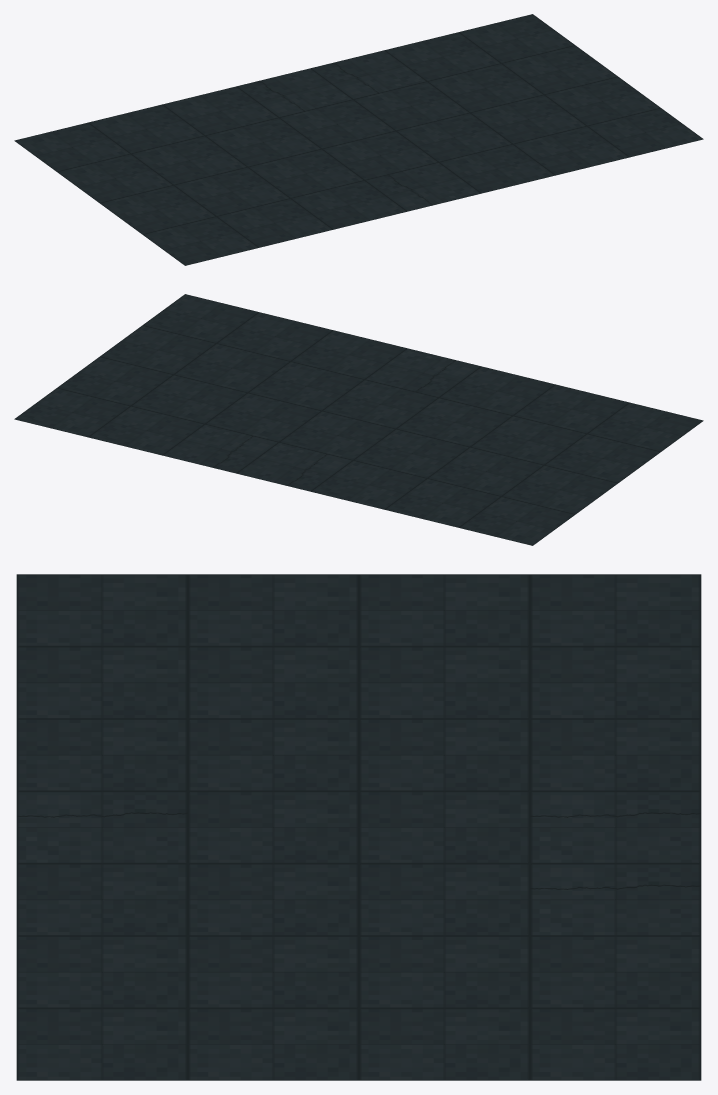
Rendered from T1_FloorStrip_W7_A.fbx.
The picture shows the model from 3 angles, top to bottom: view 1: azimuth 30°, elevation 25°; view 2: azimuth 150°, elevation 25°; view 3: azimuth 270°, elevation 25°; orthographic projection. The views are drawn at different scales.
Parts seen in each view (by area): view 1: T1_FloorStrip_W7_A; view 2: T1_FloorStrip_W7_A; view 3: T1_FloorStrip_W7_A.
Part boxes in pixels (x1,y1,x2,y2): T1_FloorStrip_W7_A: (14, 14, 703, 265); T1_FloorStrip_W7_A: (14, 294, 703, 545); T1_FloorStrip_W7_A: (16, 574, 701, 1080).
Bounding box in the file's own units: 7.88 × 0 × 4.5.
